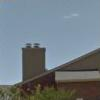Chimney: (12, 28, 53, 87)
